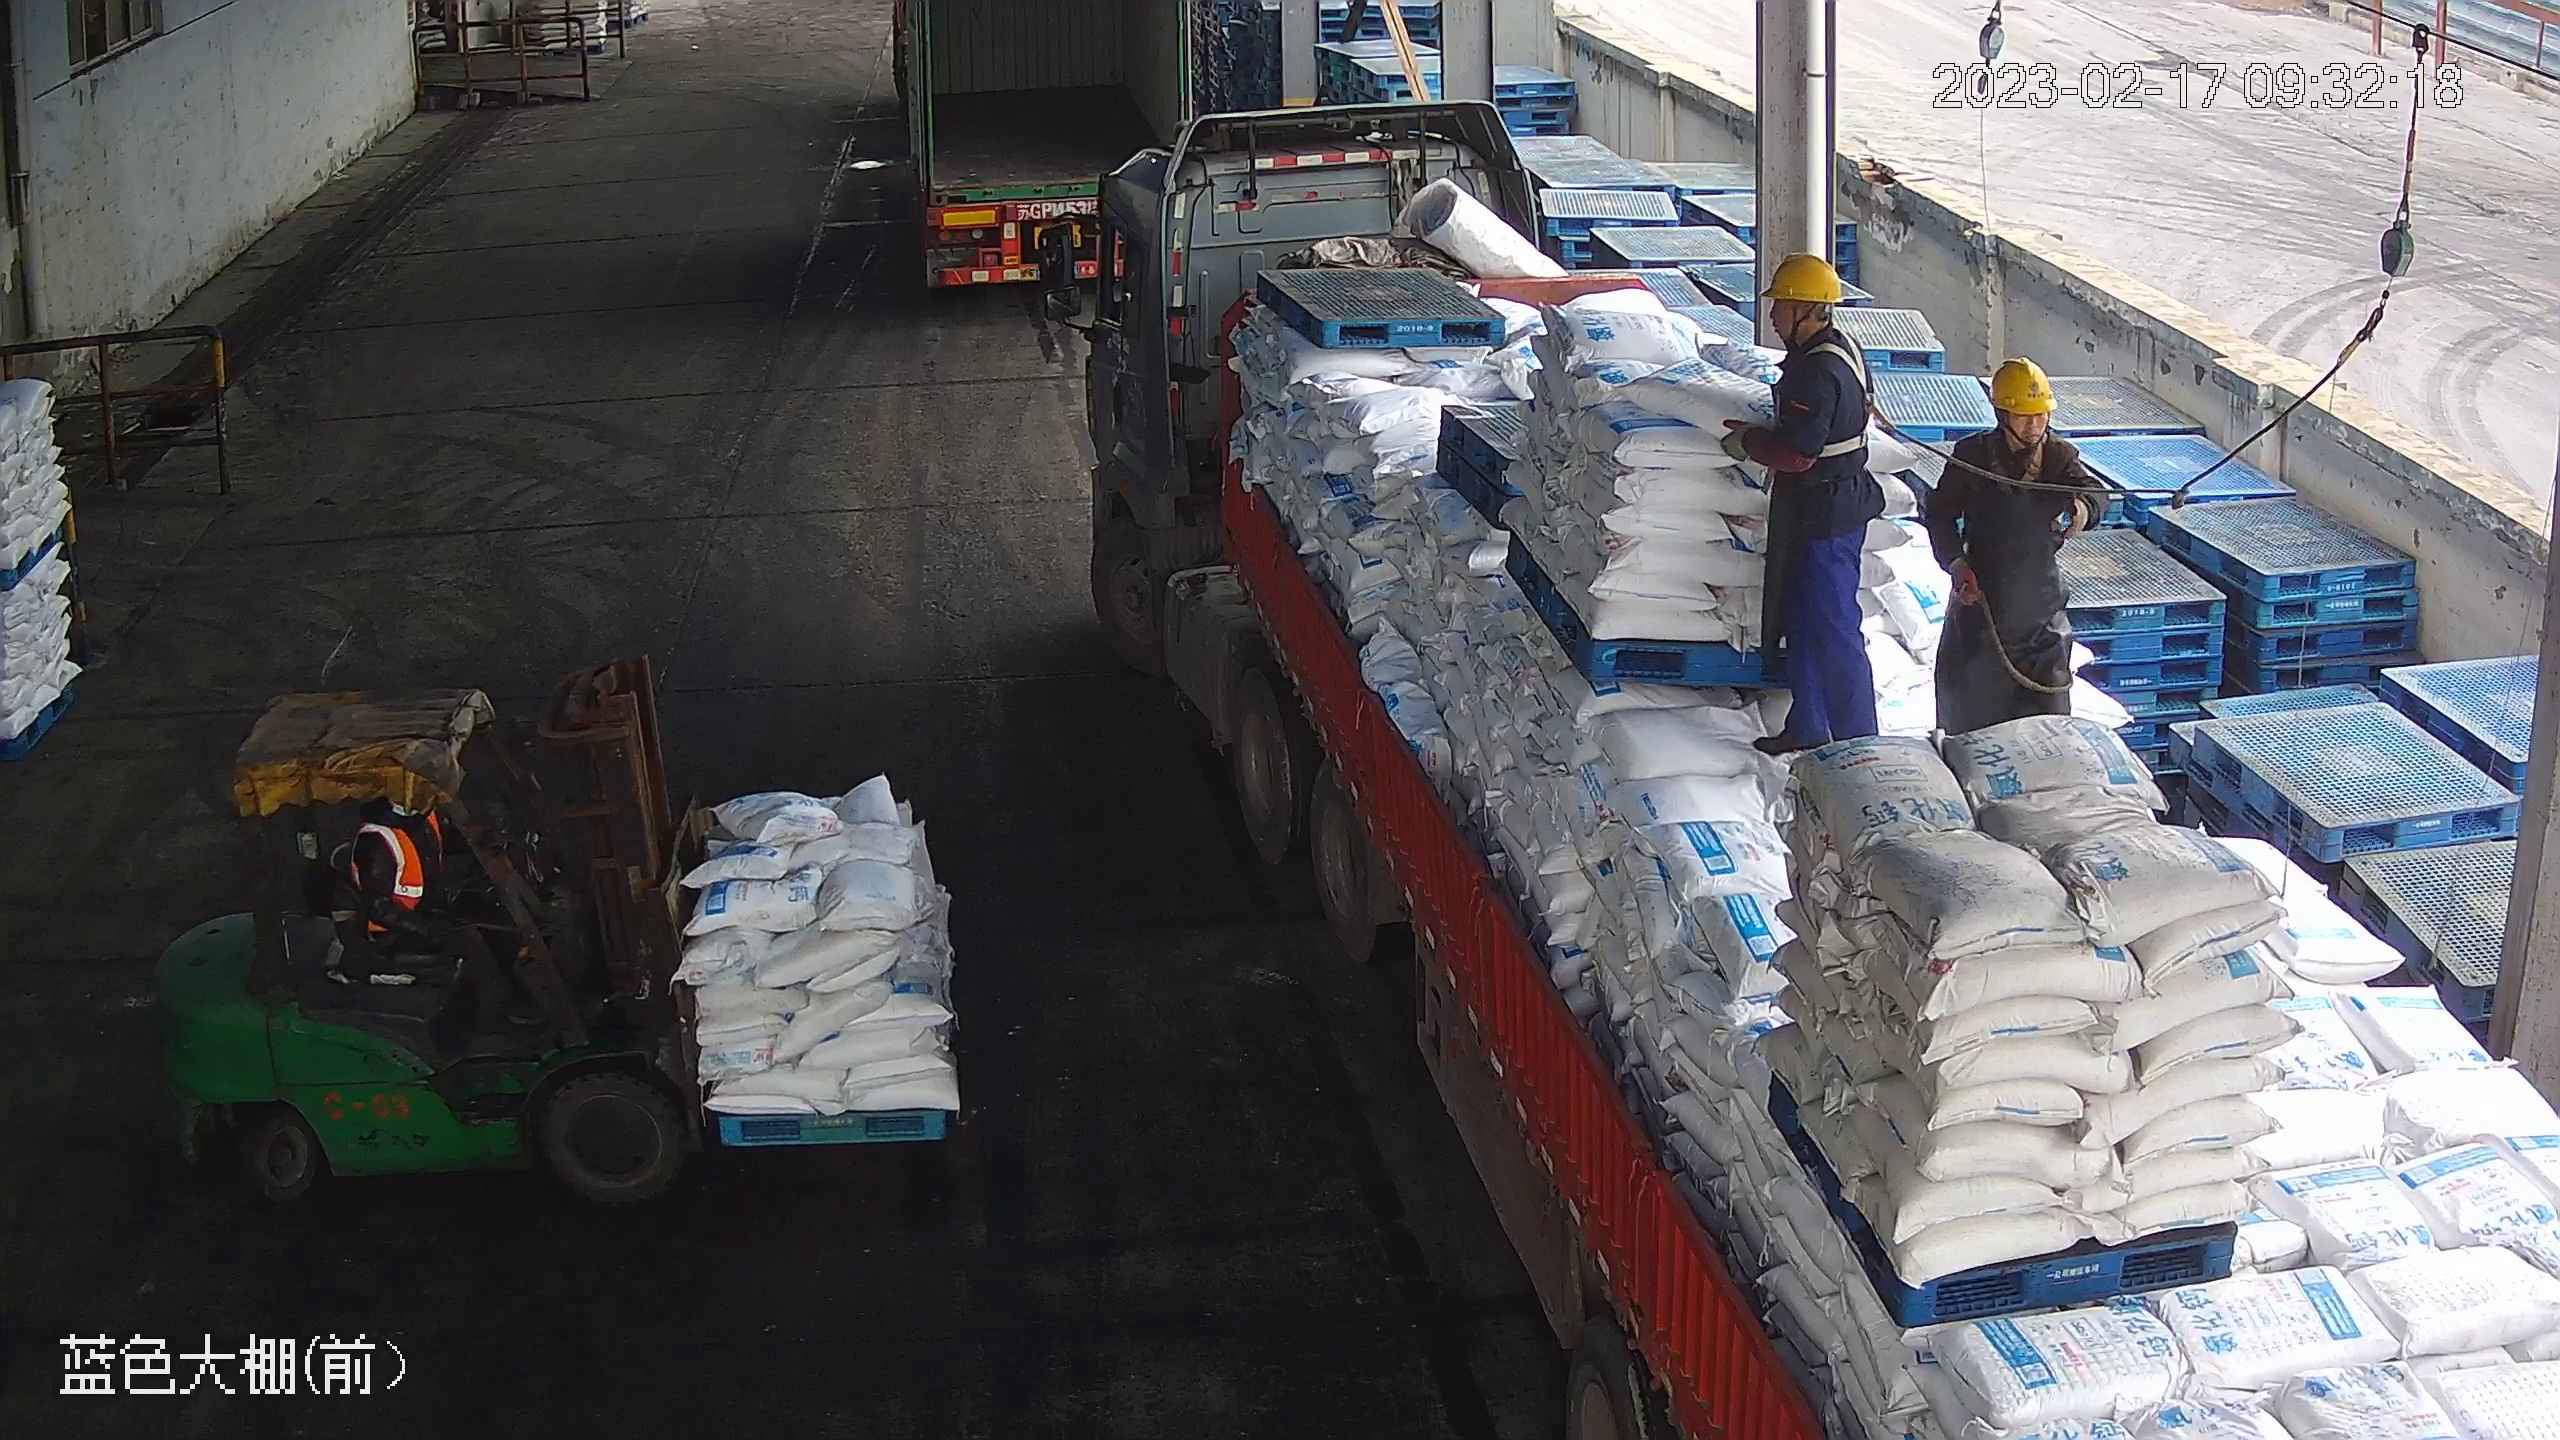belt: (1800, 338, 1903, 463), (1979, 425, 2059, 491)
head: (1756, 252, 1873, 386), (1960, 358, 2086, 478)
helmet: (1762, 249, 1846, 307), (1985, 354, 2054, 414)
people: (1724, 247, 1895, 749), (1928, 353, 2100, 725)
truck: (1035, 98, 2560, 1440), (882, 1, 1195, 294)
